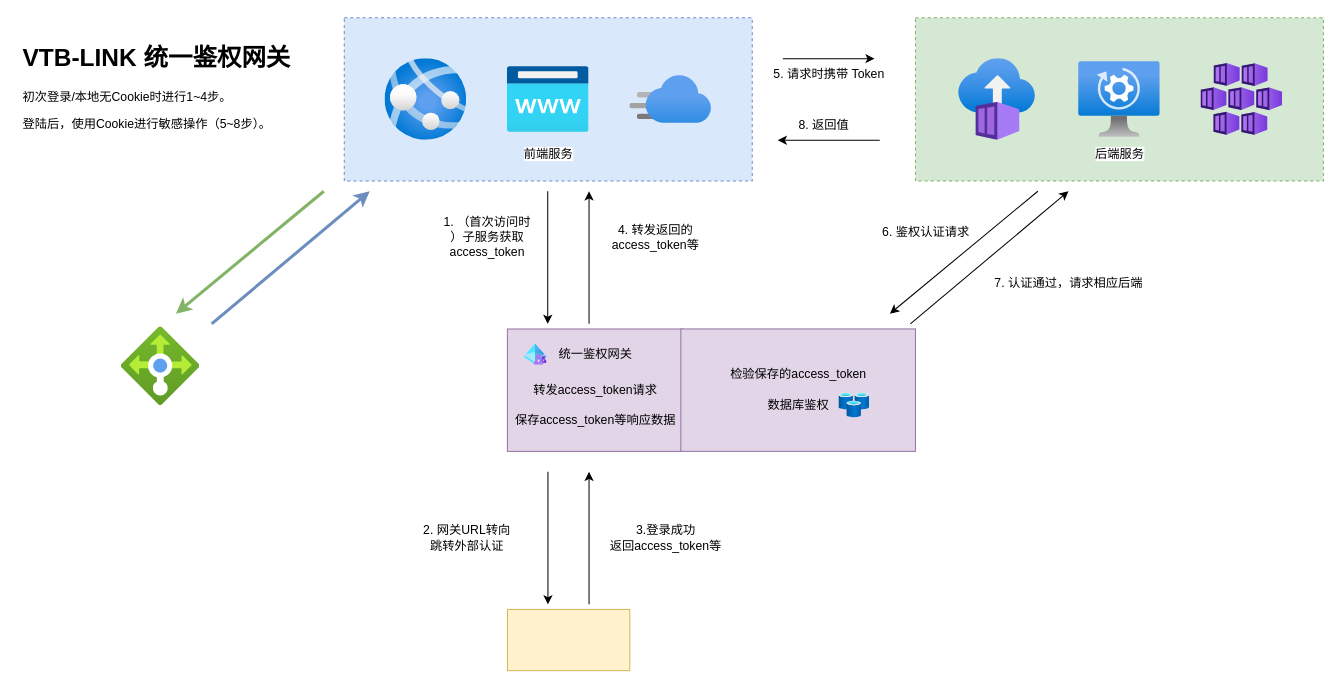
The diagram is 1341 pixels wide and 689 high, and some of its shapes have lost their labels. Here are the shapes that lost their labels. From the top down, the centre of each, then its label:
At (x=160, y=365): "负载均衡网关".
At (x=568, y=639): "Oauth 2.0 授权中心 （例：B站）".
